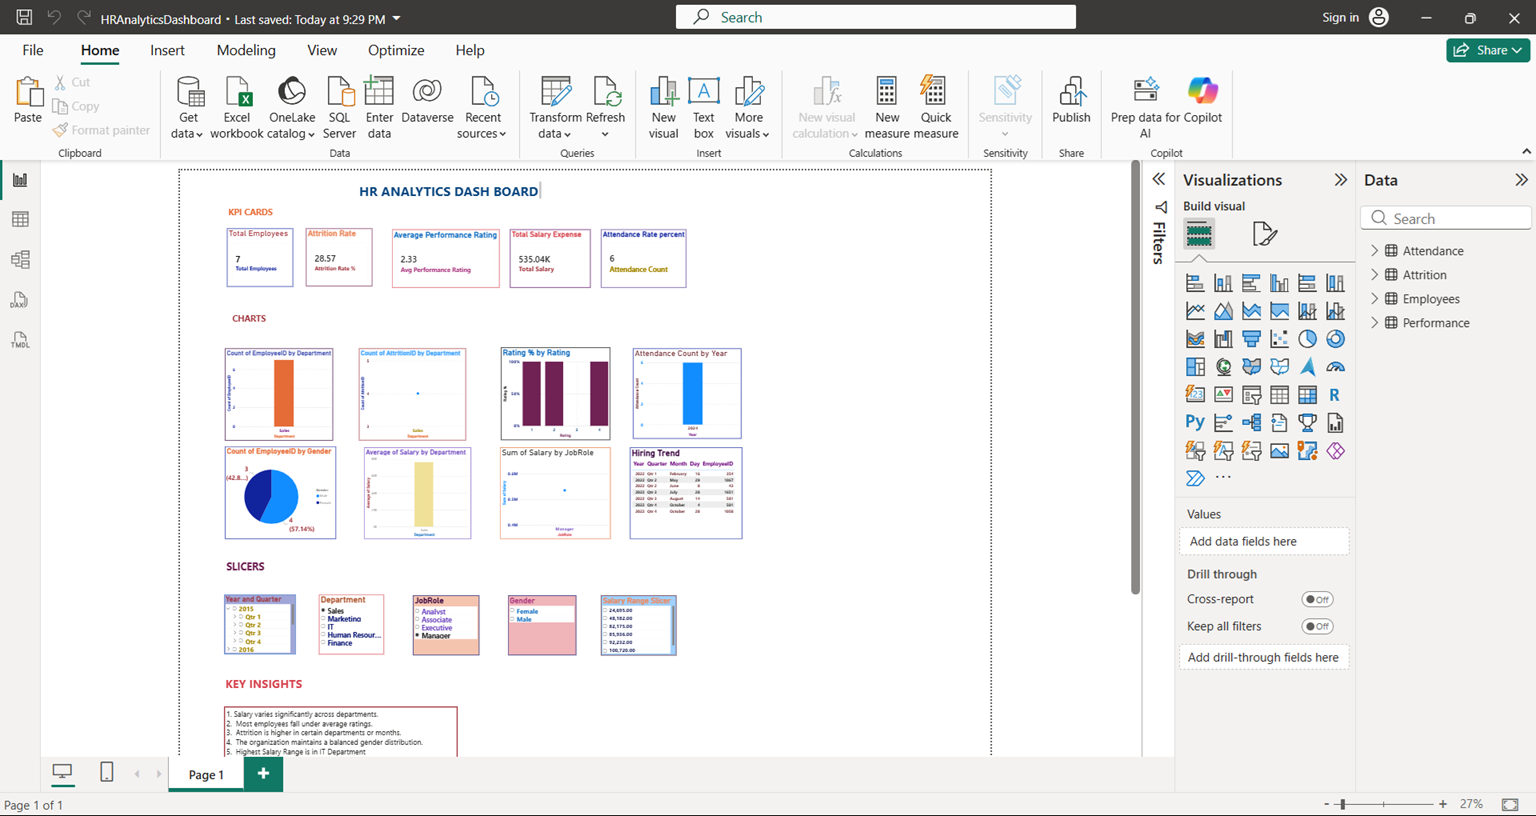

The page's visual inventory and layout, read from the dashboard file:
{"tool":"powerbi","page":{"name":"Page 1","canvas":[3000,3000],"ordinal":0},"visuals":[{"type":"textbox","box":[660.3,36.5,684.1,73],"z":0},{"type":"textbox","box":[175.4,124.6,185.5,56.5],"z":1000},{"type":"cardVisual","title":"Total Employees","fields":{"Data":["Attendance.Total Employees"]},"box":[175.4,215.9,244.9,215.9],"z":2000},{"type":"cardVisual","title":"Attrition Rate","fields":{"Data":["Attendance.Attrition Rate %"]},"box":[465.5,216.4,245.5,214.5],"z":3000},{"type":"cardVisual","title":"Average Performance Rating","fields":{"Data":["Attendance.Avg Performance Rating"]},"box":[783.6,218.2,398.2,216.4],"z":4000},{"type":"cardVisual","title":"Total Salary Expense","fields":{"Data":["Attendance.Total Salary"]},"box":[1221.8,218.2,298.2,216.4],"z":5000},{"type":"cardVisual","title":"Attendance Rate percent","fields":{"Data":["Attendance.Attendance Rate %"]},"box":[1560,218.2,316.4,216.4],"z":6000},{"type":"textbox","box":[187.3,523.8,222.2,60.3],"z":7000},{"type":"columnChart","fields":{"Category":["Employees.Department"],"Y":["CountNonNull(Employees.EmployeeID)"]},"box":[167.3,658.2,400,341.8],"z":8000},{"type":"lineChart","fields":{"Category":["Employees.Department"],"Y":["CountNonNull(Attrition.AttritionID)"]},"box":[661.2,659.2,395.9,340.8],"z":9000},{"type":"pieChart","fields":{"Category":["Employees.Gender"],"Y":["CountNonNull(Employees.EmployeeID)"]},"box":[166.7,1023.8,411.1,342.9],"z":10000},{"type":"clusteredColumnChart","fields":{"Category":["Employees.Department"],"Y":["Avg(Employees.Salary)"]},"box":[681,1027,396.8,339.7],"z":11000},{"type":"hundredPercentStackedColumnChart","fields":{"Category":["Performance.Rating"],"Y":["Attendance.Rating %"]},"box":[1188.1,657.1,404.8,342.9],"z":12000},{"type":"lineChart","fields":{"Category":["Employees.JobRole"],"Y":["Sum(Employees.Salary)"]},"box":[1184.1,1027,409.5,339.7],"z":13000},{"type":"textbox","box":[167.3,1436.7,163.3,63.3],"z":14000},{"type":"listSlicer","fields":{"Values":["Employees.Department"]},"box":[516.3,1571.4,240.8,222.4],"z":15000},{"type":"listSlicer","fields":{"Values":["Employees.JobRole"]},"box":[861.8,1572.7,245.5,221.8],"z":16000},{"type":"listSlicer","fields":{"Values":["Employees.Gender"]},"box":[1216.4,1572.7,252.7,221.8],"z":17000},{"type":"listSlicer","fields":{"Values":["Employees.HireDate.Variation.Date Hierarchy.Year","Employees.HireDate.Variation.Date Hierarchy.Quarter","Employees.HireDate.Variation.Date Hierarchy.Month","Employees.HireDate.Variation.Date Hierarchy.Day"]},"box":[161.8,1570.9,265.5,221.8],"z":18000},{"type":"textbox","box":[161.2,1865.3,298,69.4],"z":19000},{"type":"textbox","box":[161.2,1985.7,865.3,226.5],"z":20000},{"type":"columnChart","fields":{"Category":["Attendance.AttendanceDate.Variation.Date Hierarchy.Year","Attendance.AttendanceDate.Variation.Date Hierarchy.Quarter","Attendance.AttendanceDate.Variation.Date Hierarchy.Month","Attendance.AttendanceDate.Variation.Date Hierarchy.Day"],"Y":["Attendance.Attendance Count"]},"box":[1676.4,658.2,401.8,334.5],"z":21000},{"type":"tableEx","title":"Hiring Trend","fields":{"Values":["Employees.HireDate.Variation.Date Hierarchy.Year","Employees.HireDate.Variation.Date Hierarchy.Quarter","Employees.HireDate.Variation.Date Hierarchy.Month","Employees.HireDate.Variation.Date Hierarchy.Day","Employees.EmployeeID"]},"box":[1667.3,1027.3,416.4,340],"z":22000},{"type":"listSlicer","title":"Salary  Range Slicer","fields":{"Values":["Employees.Salary"]},"box":[1559.2,1573.5,279.6,222.4],"z":23000}]}

Visuals, with their boxes on the page's 3000x3000 design canvas (x1, y1, x2, y2). These are canvas units, not pixel positions in the 1536x816 screenshot, which may show the page scaled, cropped or inside an application window:
textbox: locate(660, 36, 1344, 110)
textbox: locate(175, 125, 361, 181)
"Total Employees" cardVisual: locate(175, 216, 420, 432)
"Attrition Rate" cardVisual: locate(466, 216, 711, 431)
"Average Performance Rating" cardVisual: locate(784, 218, 1182, 435)
"Total Salary Expense" cardVisual: locate(1222, 218, 1520, 435)
"Attendance Rate percent" cardVisual: locate(1560, 218, 1876, 435)
textbox: locate(187, 524, 410, 584)
columnChart - Employees.Department x CountNonNull(Employees.EmployeeID): locate(167, 658, 567, 1000)
lineChart - Employees.Department x CountNonNull(Attrition.AttritionID): locate(661, 659, 1057, 1000)
pieChart - Employees.Gender x CountNonNull(Employees.EmployeeID): locate(167, 1024, 578, 1367)
clusteredColumnChart - Employees.Department x Avg(Employees.Salary): locate(681, 1027, 1078, 1367)
hundredPercentStackedColumnChart - Performance.Rating x Attendance.Rating %: locate(1188, 657, 1593, 1000)
lineChart - Employees.JobRole x Sum(Employees.Salary): locate(1184, 1027, 1594, 1367)
textbox: locate(167, 1437, 331, 1500)
listSlicer - Employees.Department: locate(516, 1571, 757, 1794)
listSlicer - Employees.JobRole: locate(862, 1573, 1107, 1794)
listSlicer - Employees.Gender: locate(1216, 1573, 1469, 1794)
listSlicer - Employees.HireDate.Variation.Date Hierarchy.Year x Employees.HireDate.Variation.Date Hierarchy.Quarter: locate(162, 1571, 427, 1793)
textbox: locate(161, 1865, 459, 1935)
textbox: locate(161, 1986, 1026, 2212)
columnChart - Attendance.AttendanceDate.Variation.Date Hierarchy.Year x Attendance.AttendanceDate.Variation.Date Hierarchy.Quarter: locate(1676, 658, 2078, 993)
"Hiring Trend" tableEx: locate(1667, 1027, 2084, 1367)
"Salary  Range Slicer" listSlicer: locate(1559, 1574, 1839, 1796)
